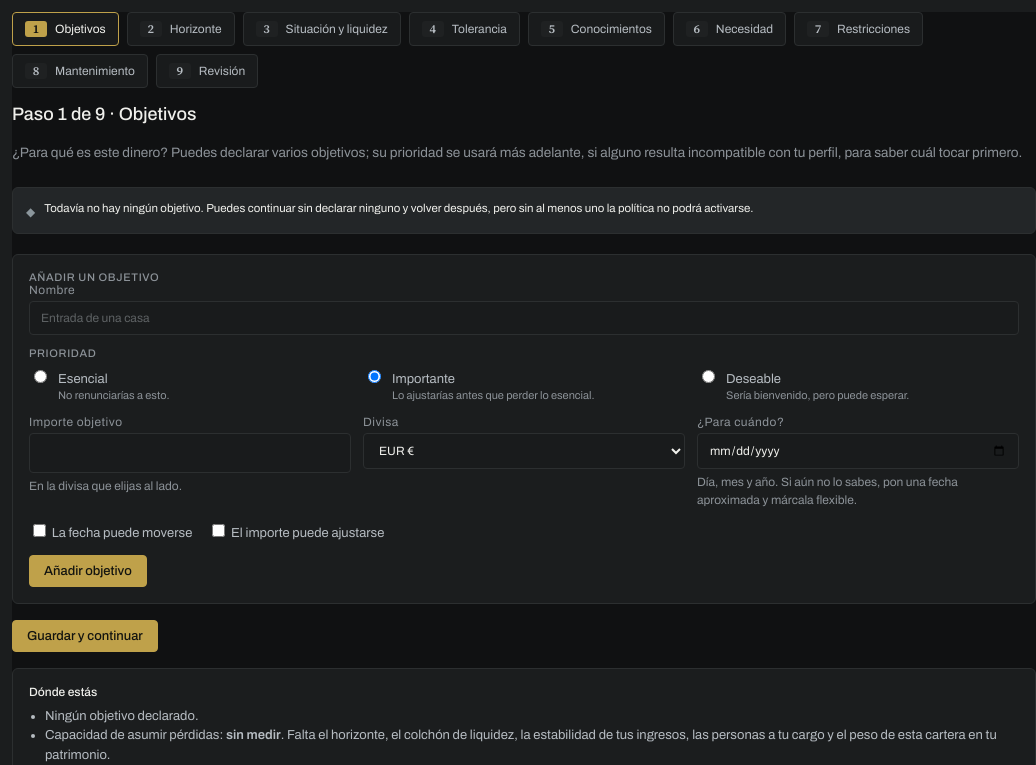
Test case: IpsWizard · validación de objetivos › al intentar añadir un objetivo vacío señala los tres campos y no guarda nada
Click the button "Añadir objetivo" at (88, 571), box [29,555,147,587]
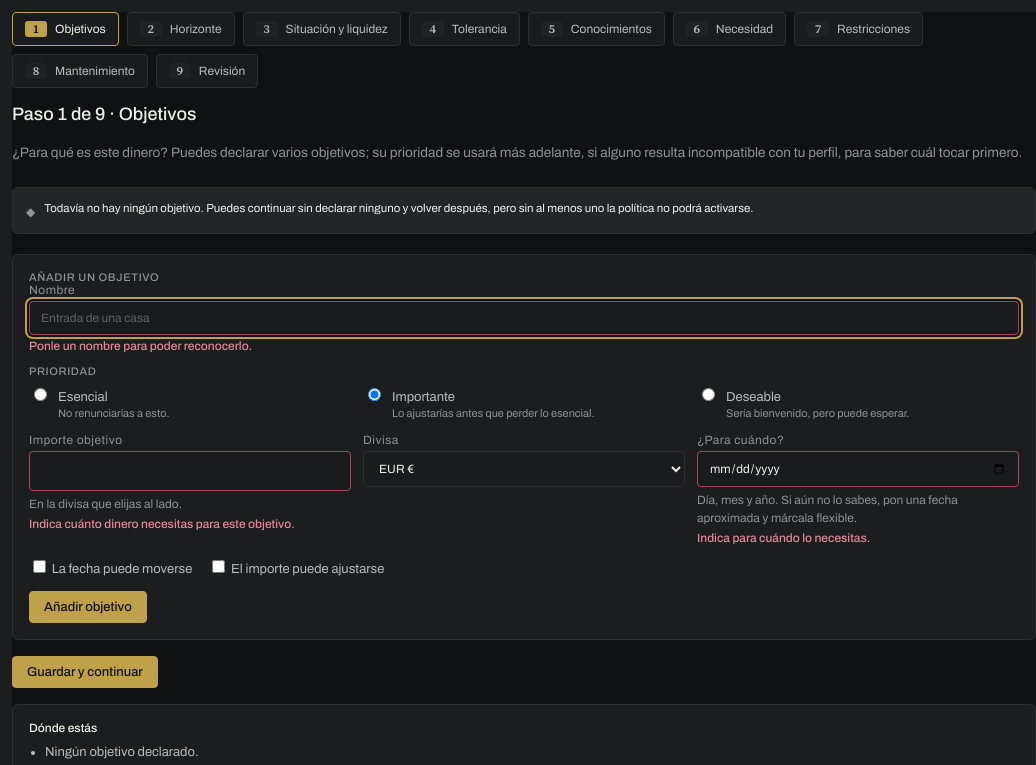
Expected: the number of messages is 3, [29,339,252,353]; [29,517,295,531]; [697,531,870,545]
